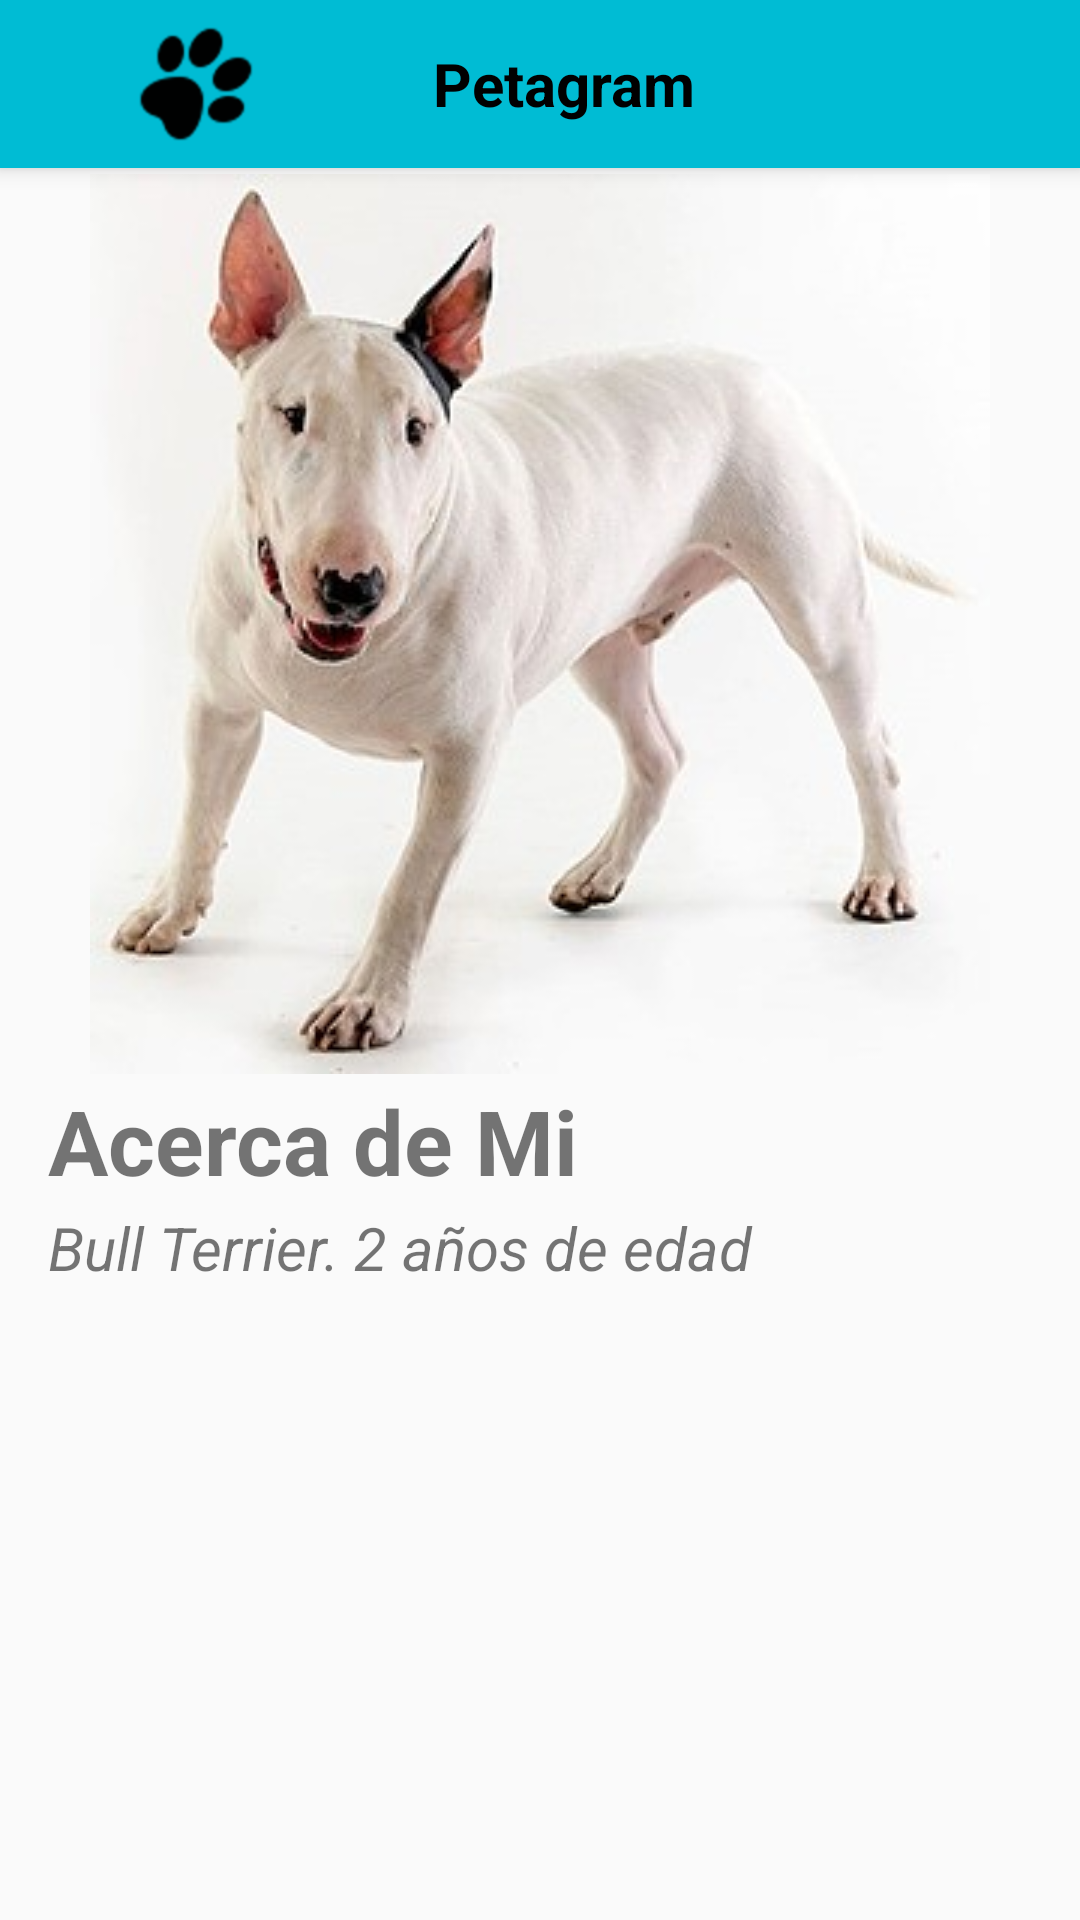

Icon bounding boxes for this 1080 × 1920 phone screenshot, format region(x1, y1, x2, y2):
pet: region(140, 28, 252, 140)
